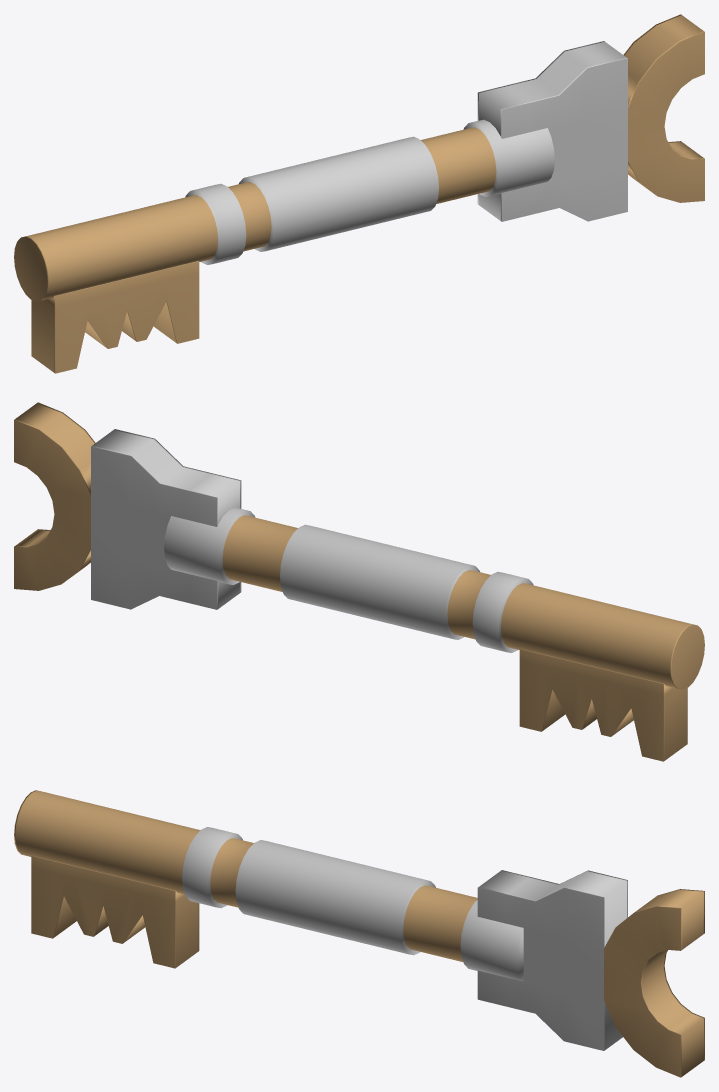
The model's file is Key.fbx.
3 views of the same model, one above another, from view 1: azimuth 30°, elevation 25°; view 2: azimuth 150°, elevation 25°; view 3: azimuth 330°, elevation 25° (orthographic).
Parts seen in each view (by area): view 1: polySurface6; view 2: polySurface6; view 3: polySurface6.
Boxes of the visible parts, box(x1,y1,x2,y2) form: polySurface6: box(14, 14, 704, 373); polySurface6: box(14, 402, 704, 761); polySurface6: box(14, 790, 704, 1077).
Size of the model in its own units: 22.99 by 6.08 by 2.32.
